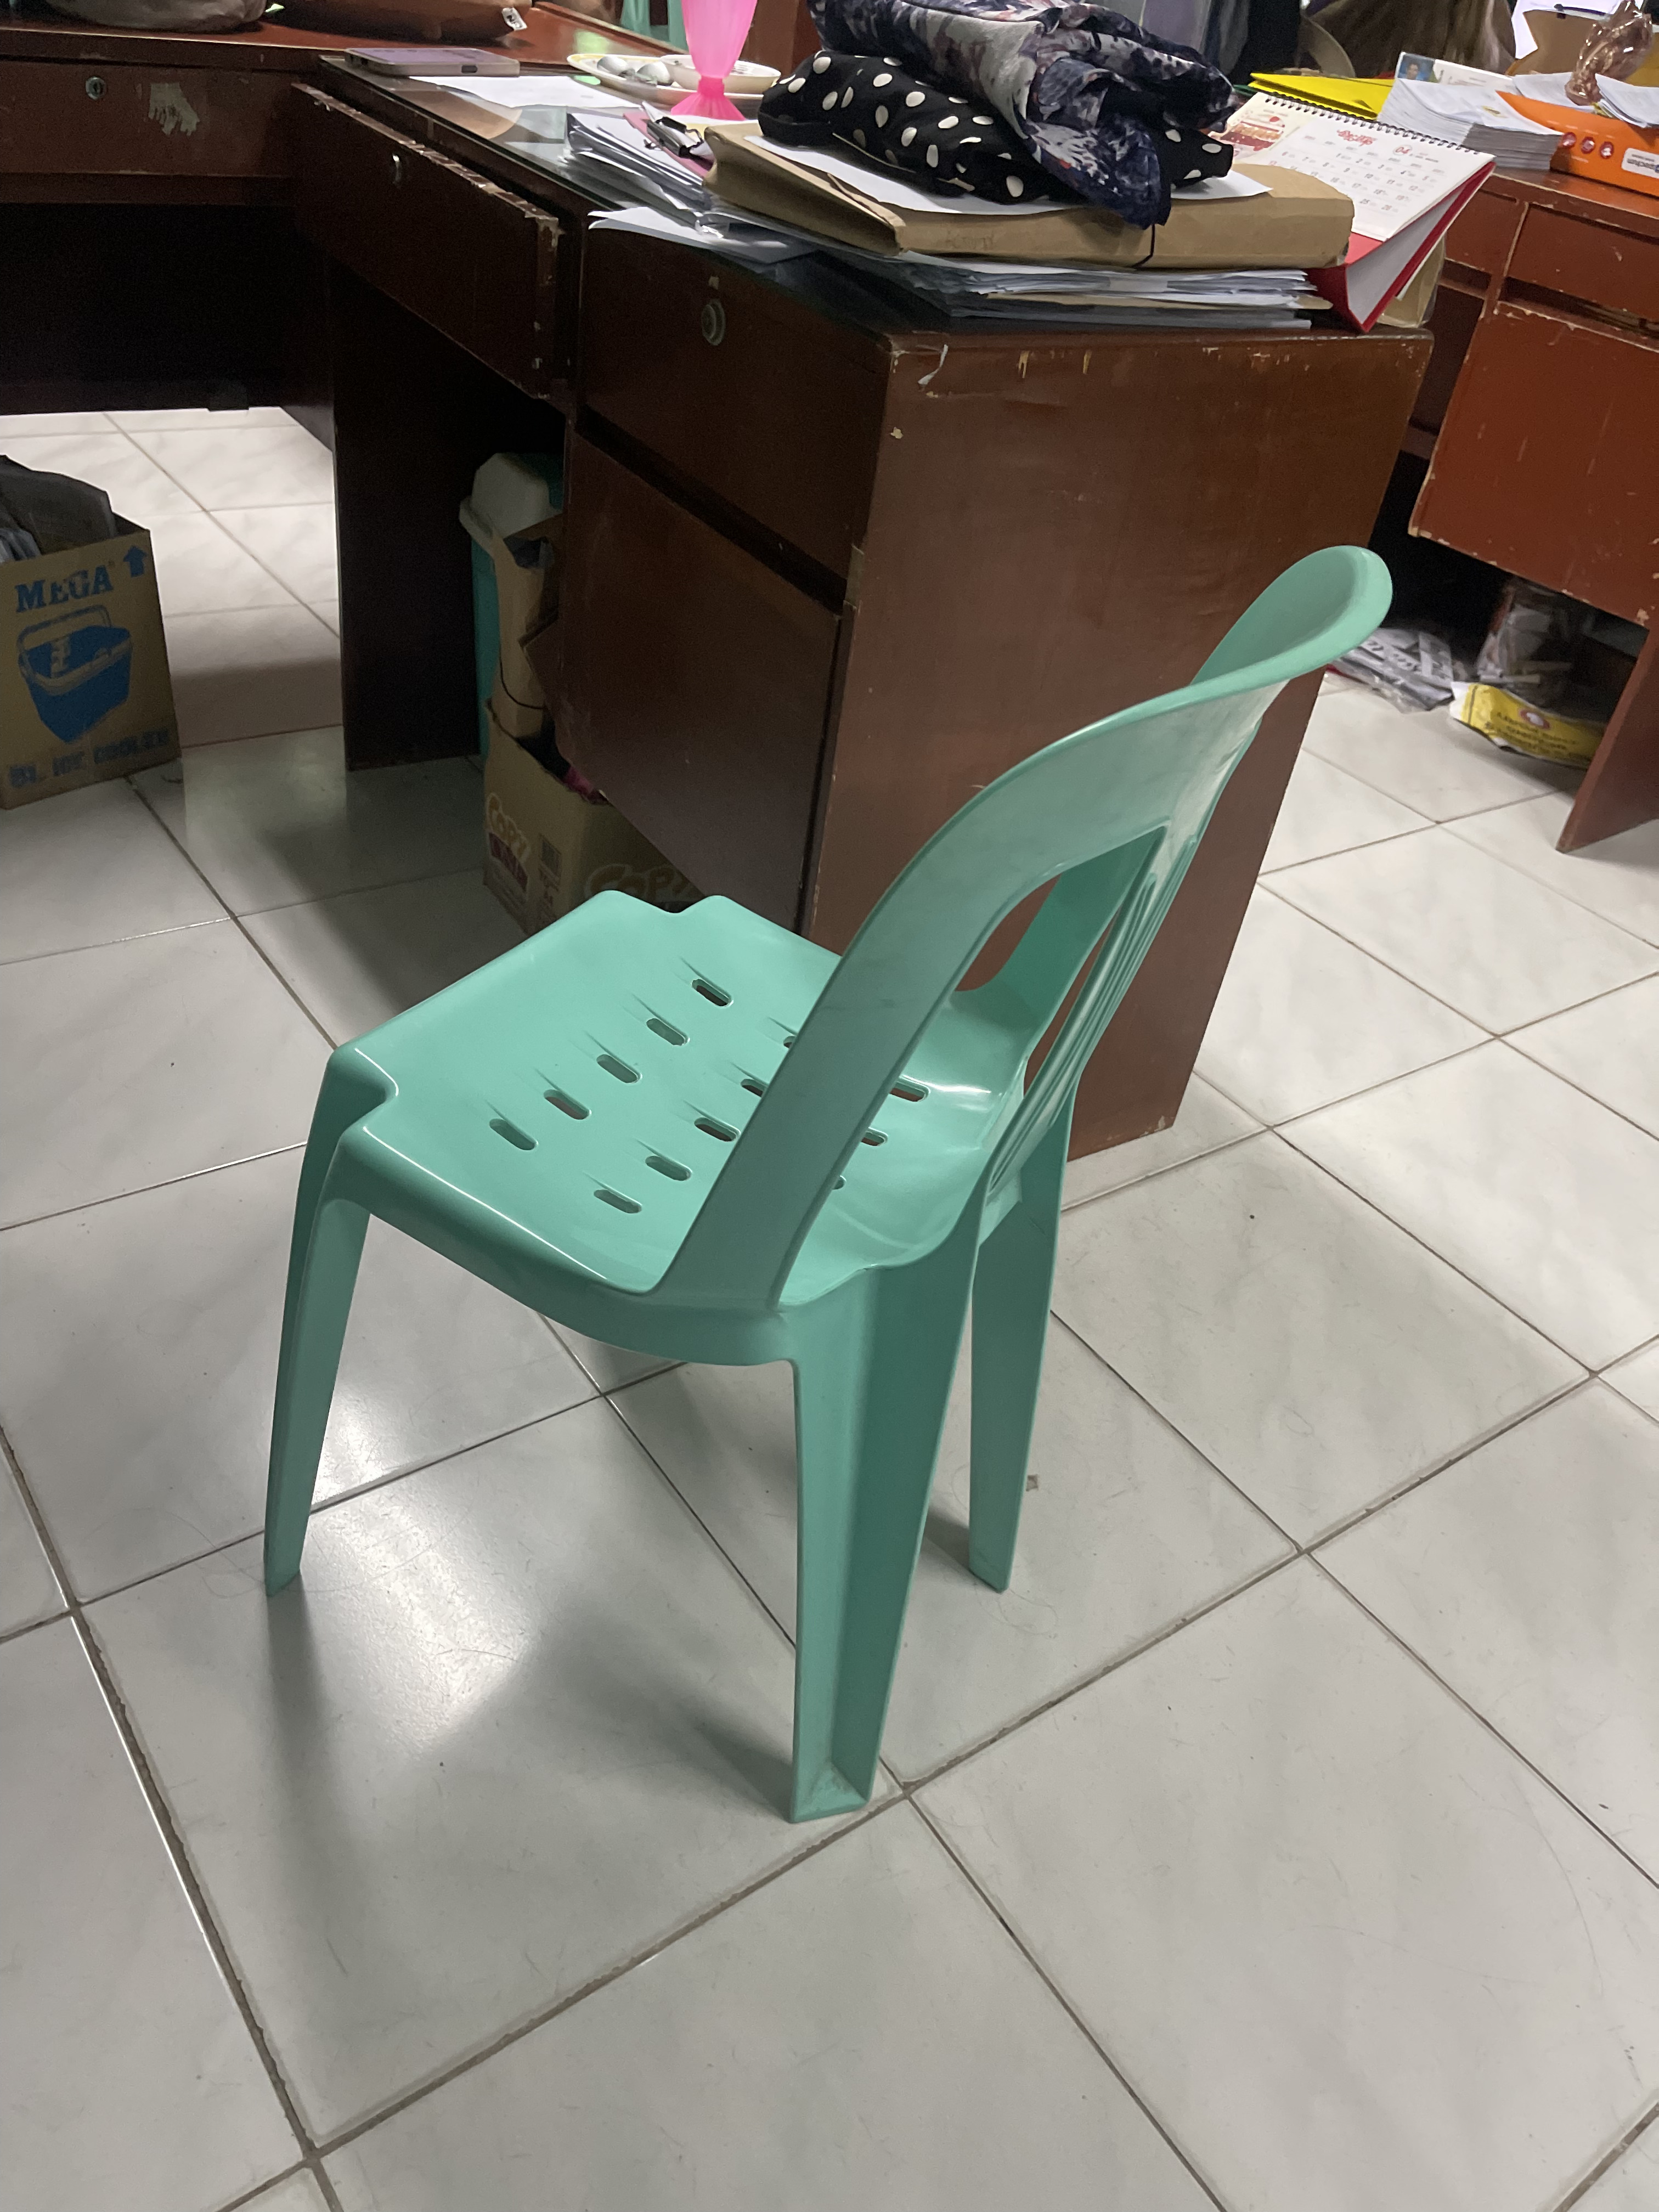chair2: (244, 531, 1412, 1869)
